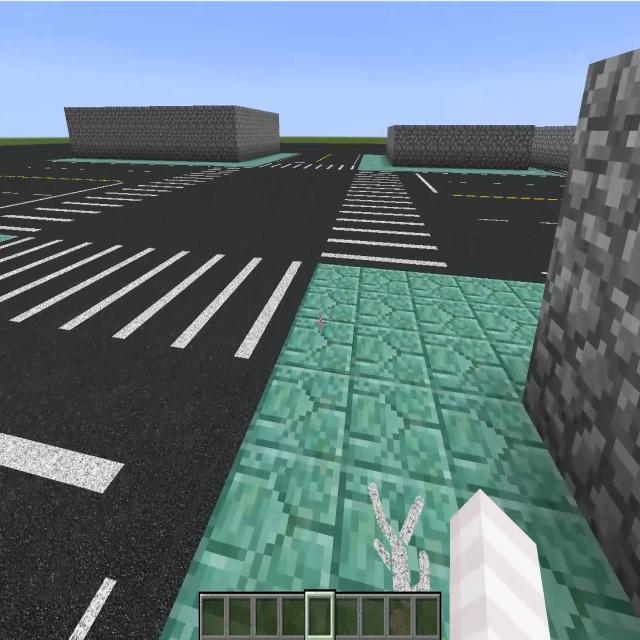crosswalk: (0, 236, 315, 363), (1, 168, 250, 235), (318, 171, 453, 274), (258, 162, 356, 172)
road: (0, 318, 274, 639), (39, 170, 355, 258), (399, 174, 566, 278), (0, 144, 213, 214), (280, 144, 387, 163)
sidewalk: (159, 265, 640, 639), (357, 154, 559, 175), (49, 152, 296, 167), (0, 234, 19, 242)
